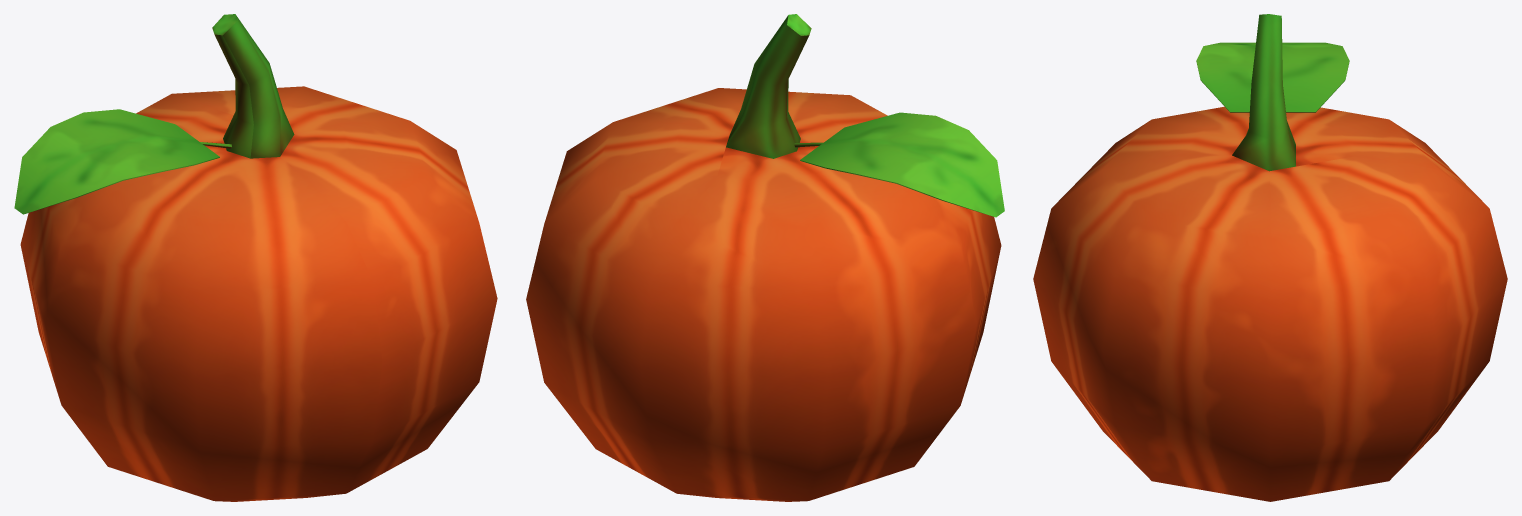
The model's file is Vegetables01_2.FBX.
3 views of the same model, side by side, from view 1: azimuth 30°, elevation 25°; view 2: azimuth 150°, elevation 25°; view 3: azimuth 270°, elevation 25° (orthographic). The views are drawn at different scales.
Parts seen in each view (by area): view 1: Vegetables01_2; view 2: Vegetables01_2; view 3: Vegetables01_2.
Part boxes in pixels (box(x1,y1,x2,y2)): Vegetables01_2: box(14, 14, 497, 501); Vegetables01_2: box(526, 14, 1004, 501); Vegetables01_2: box(1033, 14, 1507, 501).
Size of what is drawn, in the model's own units: 0.4036 by 0.3929 by 0.3812.
